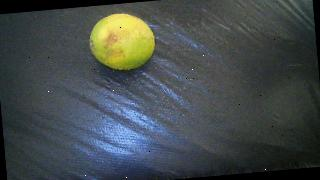DESECHO: (87, 10, 157, 72)
